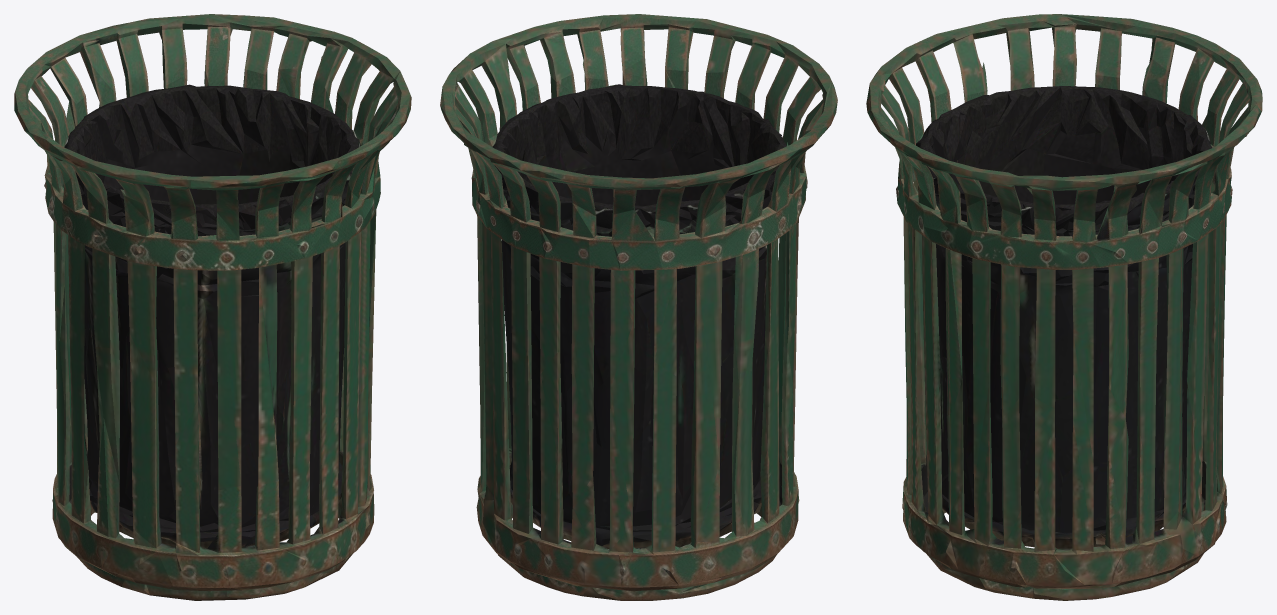
The model's file is street-bin.glb.
The picture shows the model from 3 angles, left to right: view 1: azimuth 30°, elevation 25°; view 2: azimuth 150°, elevation 25°; view 3: azimuth 270°, elevation 25°; orthographic projection.
Visible parts, largest first — view 1: Mesh_0; view 2: Mesh_0; view 3: Mesh_0.
Part boxes in pixels (box(x1,y1,x2,y2)): Mesh_0: box(14, 14, 411, 600); Mesh_0: box(440, 14, 837, 600); Mesh_0: box(866, 14, 1262, 600).
Size of the model in its own units: 1.54 by 1.9 by 1.54.
1 material, 1 textured.
